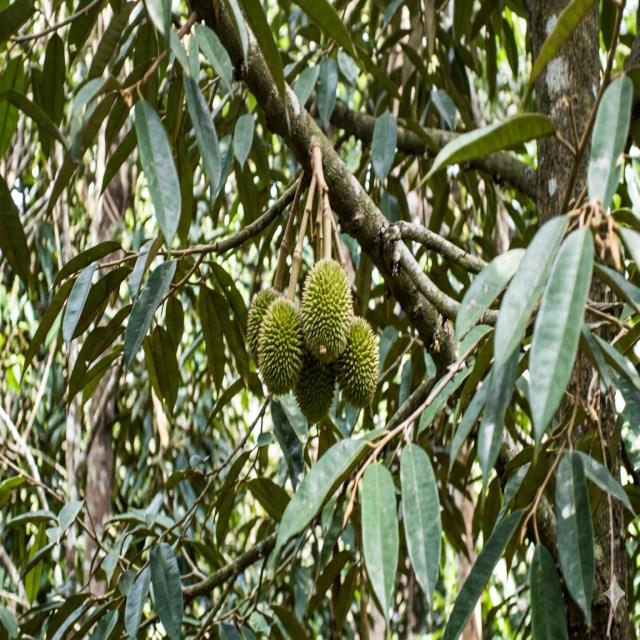immature: (300, 256, 352, 361), (256, 296, 304, 394), (334, 318, 380, 410), (294, 348, 338, 425), (245, 284, 282, 361)
